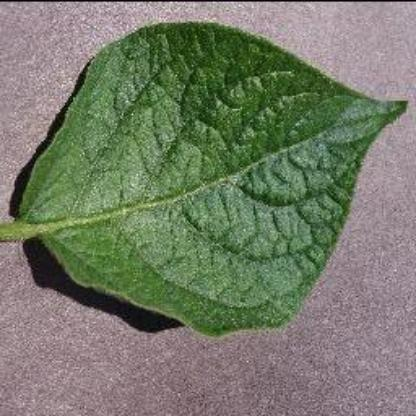Healthy-plant: (7, 17, 411, 352)
